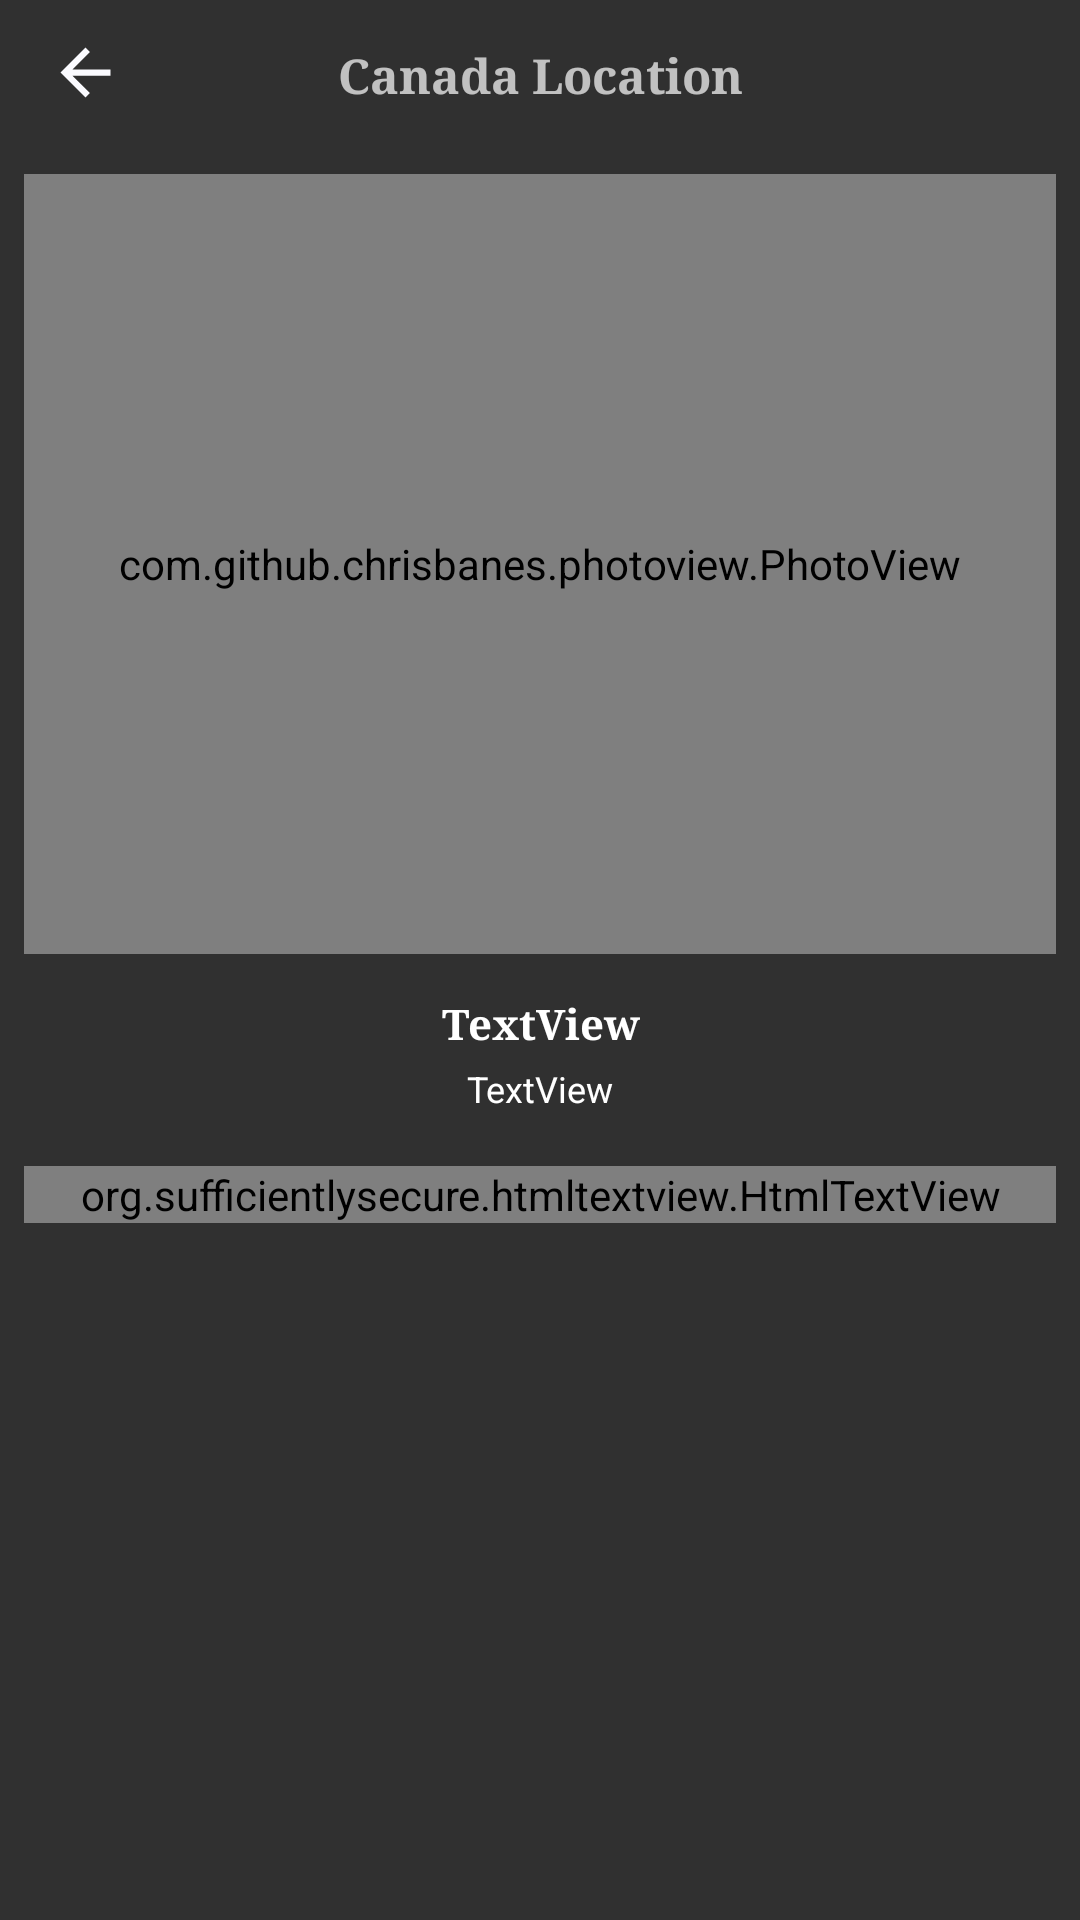

Icon click points for this 1080×1920 phone screenshot, format [x,y]:
arrow: [85,72]
